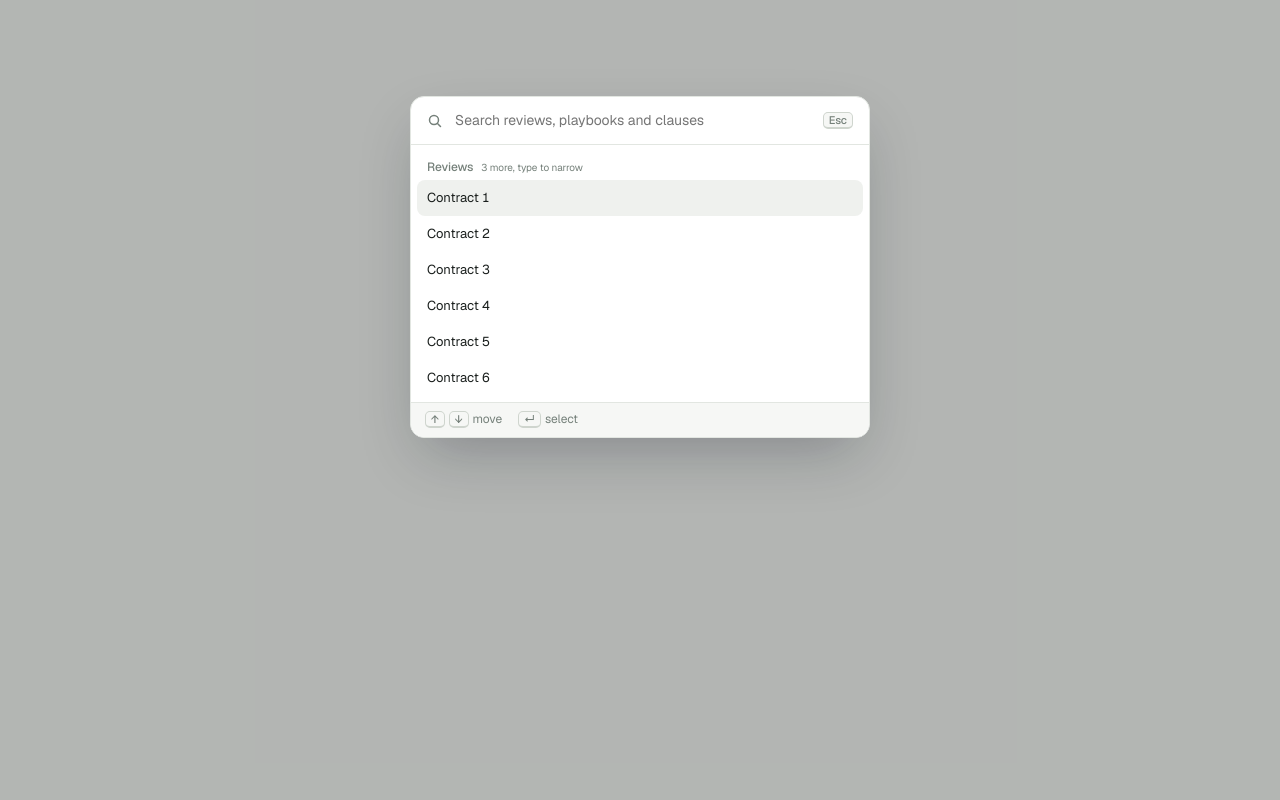
Test case: the search menu › shows no hint when everything fits
Type "Contract" into the field labelled "Search" at x=633, y=120, box [453,109,813,132]
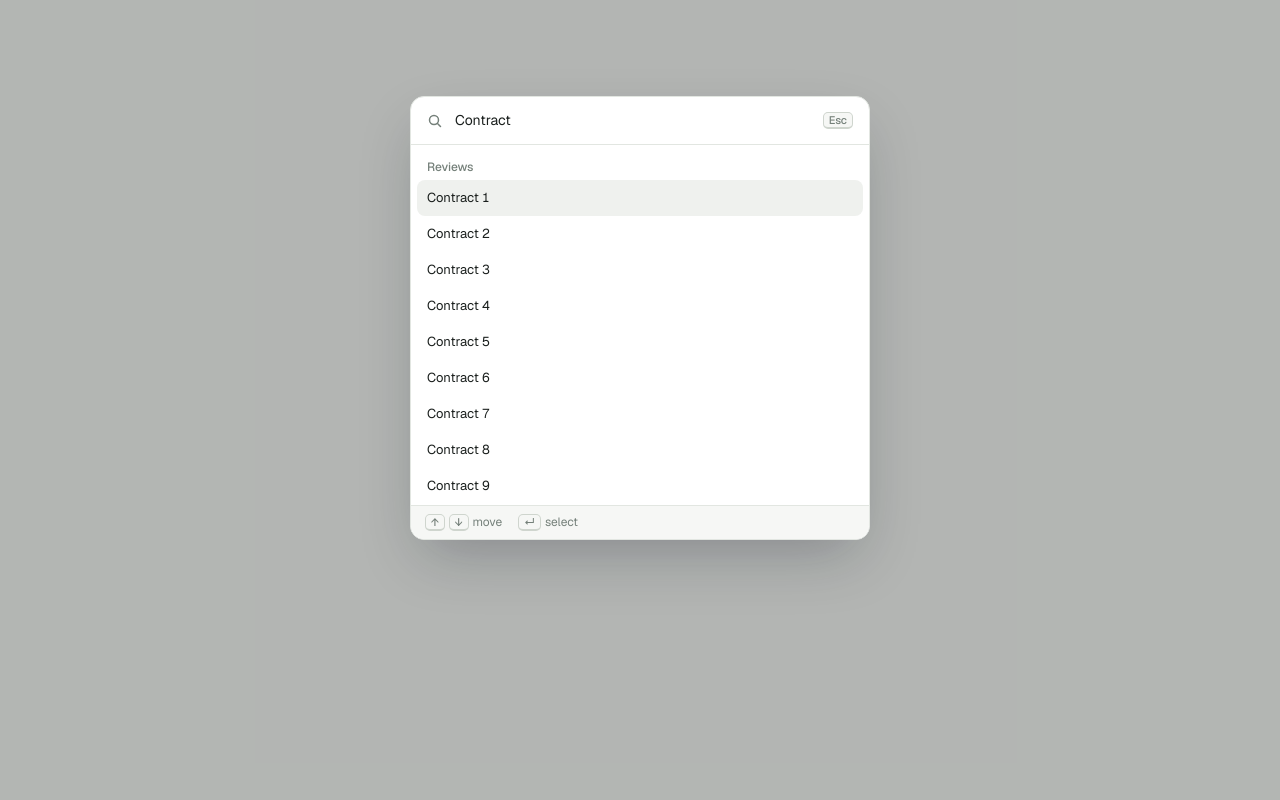
expect the number of options is 9: met
expect the text "more, type to narrow" is gone: met
